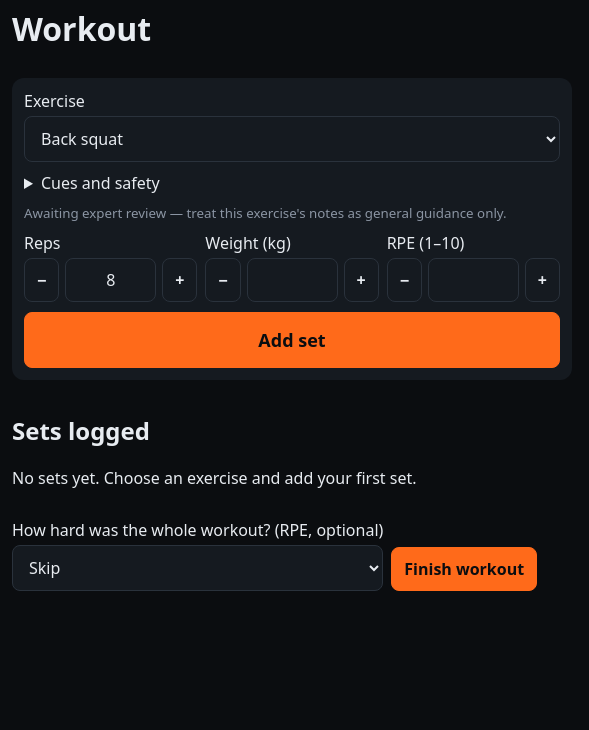
Scenario: WorkoutLogger › steppers change values; bad input is refused with a clear message and nothing is queued
Expected: the element named "Log a set" is shown, [12, 78, 572, 380]
Click the button named "Increase Reps" at x=180, y=280, box [162, 258, 197, 302]
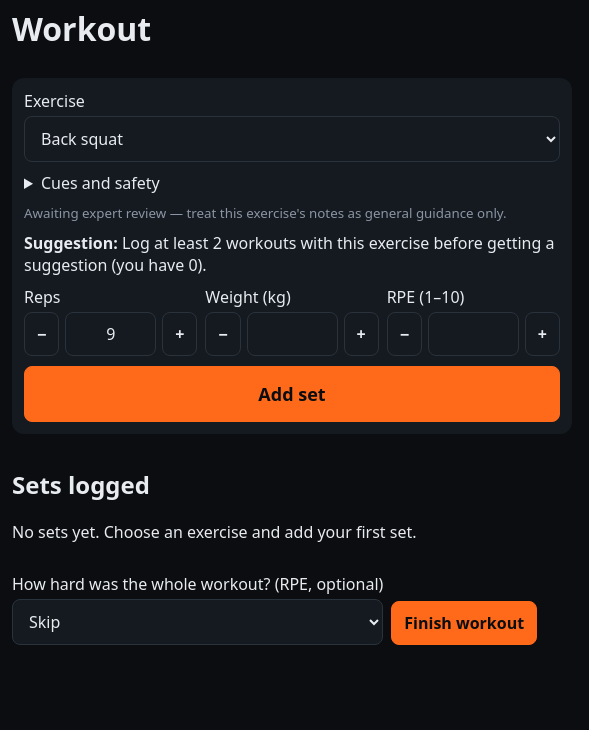
Now the field labelled "Reps" holds "9", box [65, 312, 156, 356]
Click the button named "Increase Weight (kg)" at x=361, y=334, box [344, 312, 379, 356]
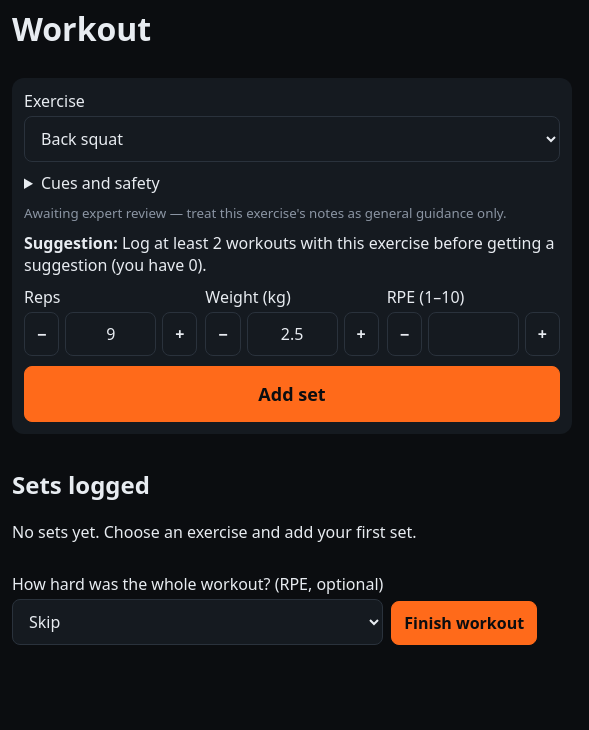
Now the field labelled "Weight (kg)" holds "2.5", box [247, 312, 338, 356]
Type "11" into the field labelled "RPE (1–10)" at x=473, y=334, box [428, 312, 519, 356]
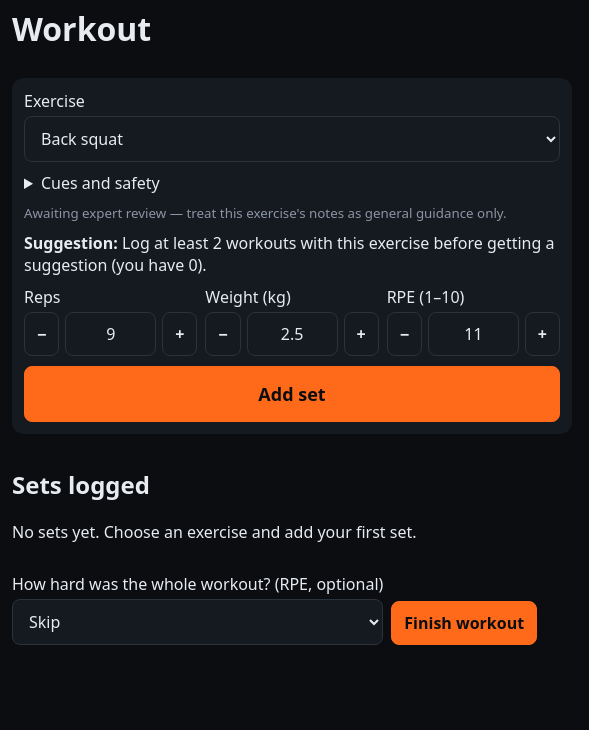
Click the button "Add set" at x=292, y=394, box [24, 366, 560, 422]
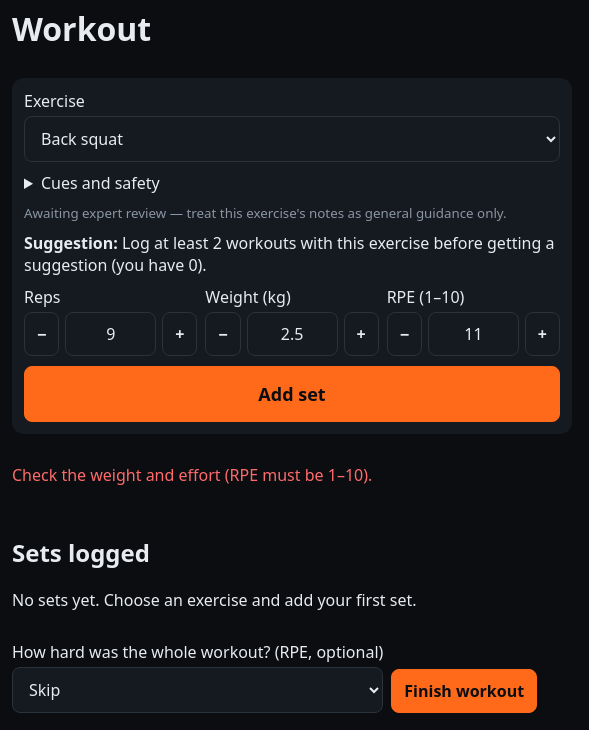
Now the message shows "RPE must be 1–10", box [12, 464, 372, 486]
